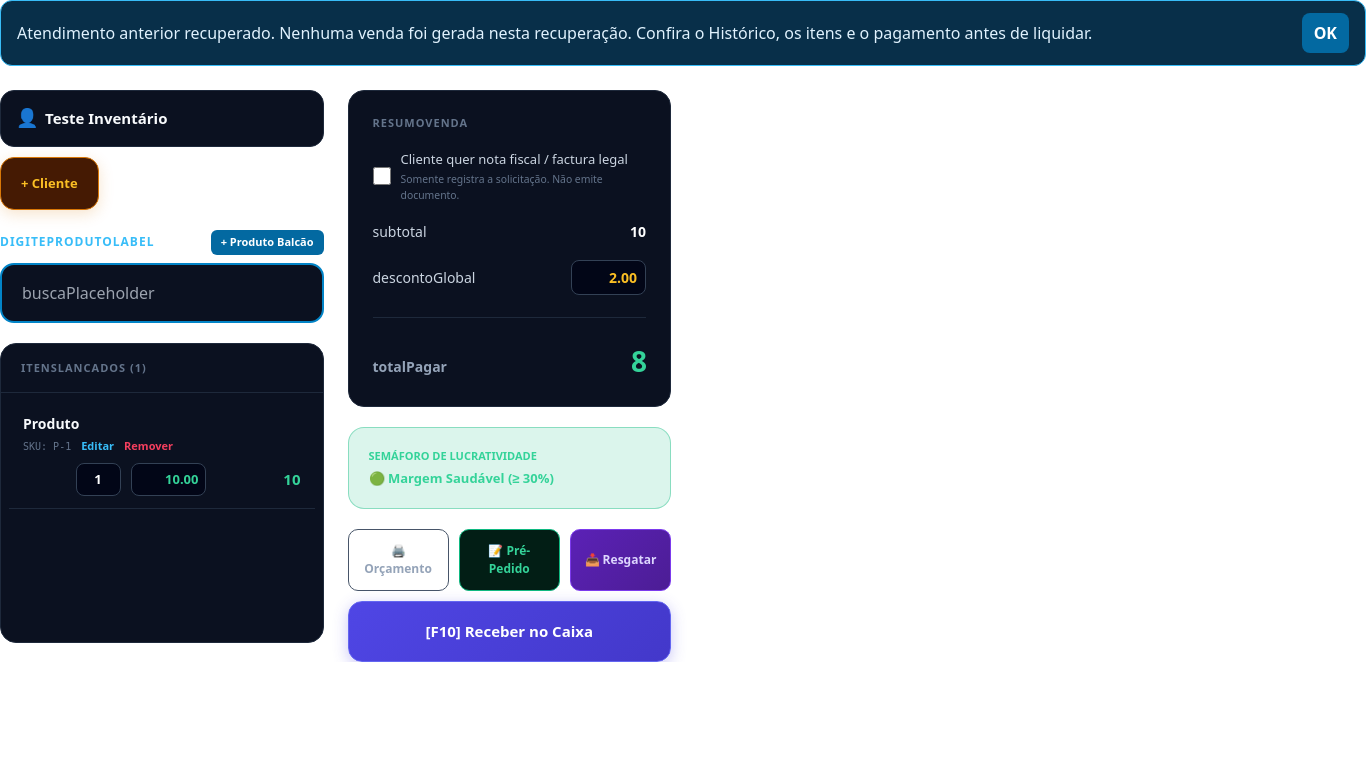
it: pré-pedido stale no terminal é bloqueado após consulta e carrinho preservado
Click the button "📥 Resgatar". click: click(620, 560)
box: [570,529,671,591]
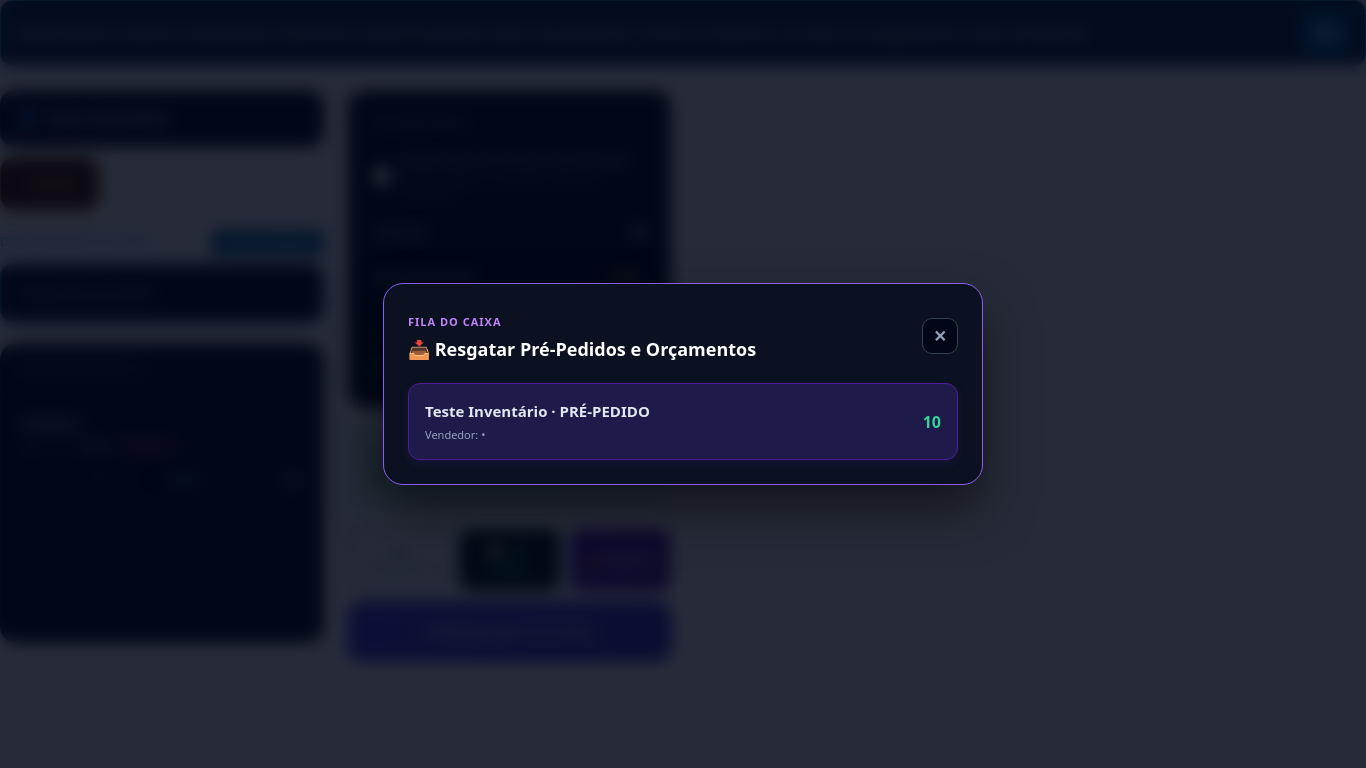
Click the text "Teste Inventário · PRÉ-PEDIDO". click: click(537, 411)
box: [425,400,650,422]
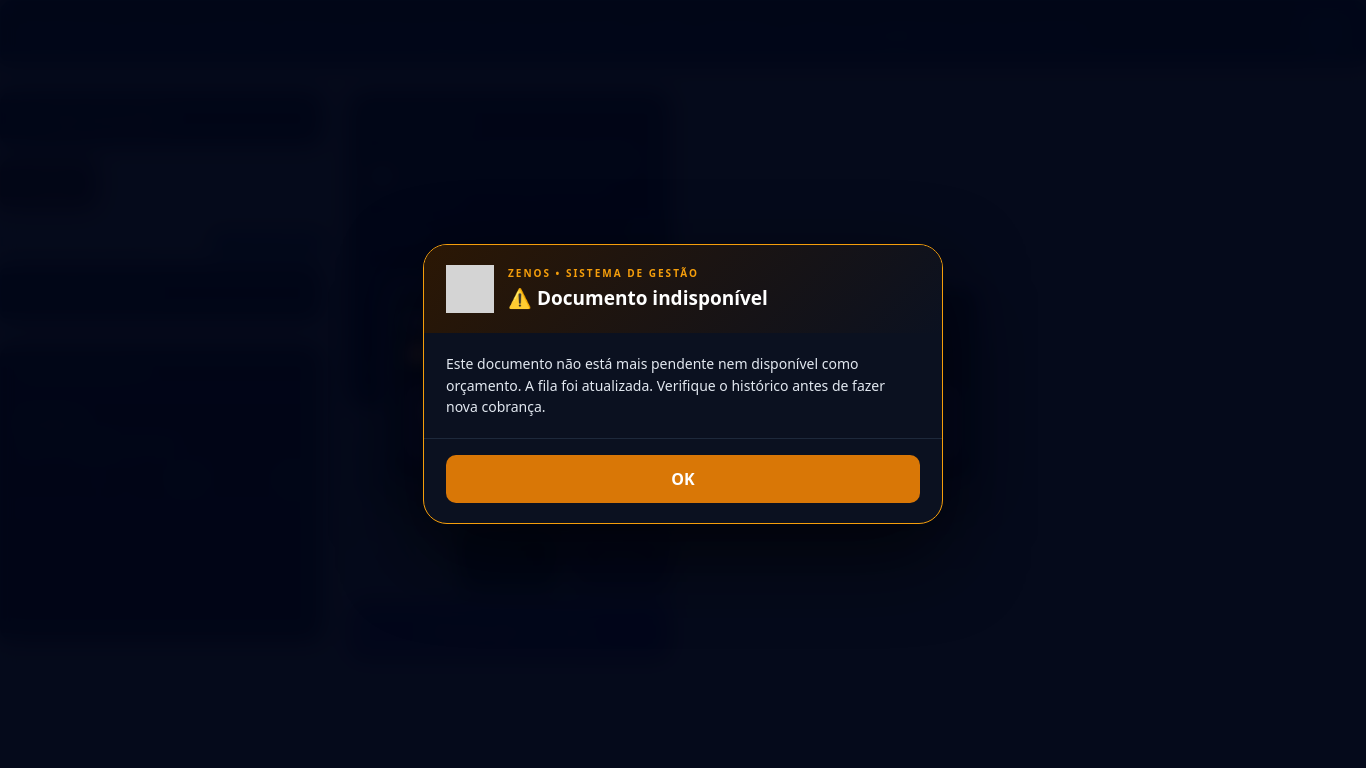
Expected: the text "⚠️ Documento indisponível" is shown, [508,285,768,311]
